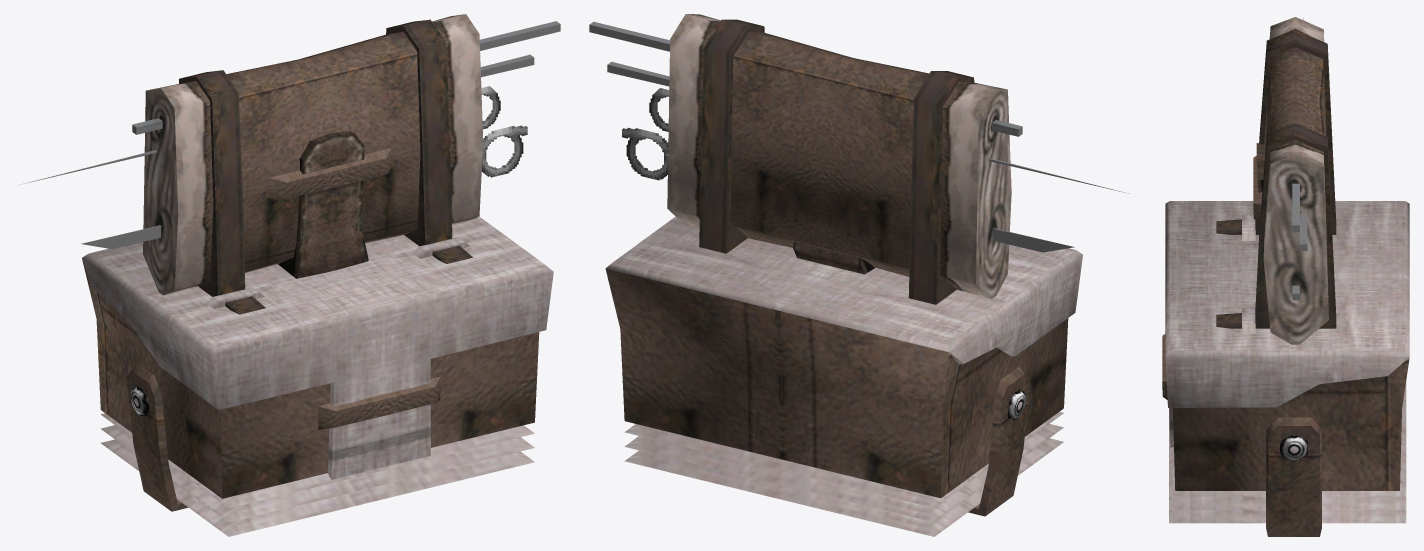
File: eqp_repair_clothing_reinforced.fbx
The picture shows the model from 3 angles, left to right: view 1: azimuth 30°, elevation 25°; view 2: azimuth 150°, elevation 25°; view 3: azimuth 270°, elevation 25°; orthographic projection. The views are drawn at different scales.
Parts seen in each view (by area): view 1: mesh_node; view 2: mesh_node; view 3: mesh_node.
Part boxes in pixels (x1,y1,x2,y2): mesh_node: (19,14,560,536); mesh_node: (589,14,1129,536); mesh_node: (1162,17,1409,536).
Size of the model in its own units: 0.8497 by 0.6234 by 0.3648.
